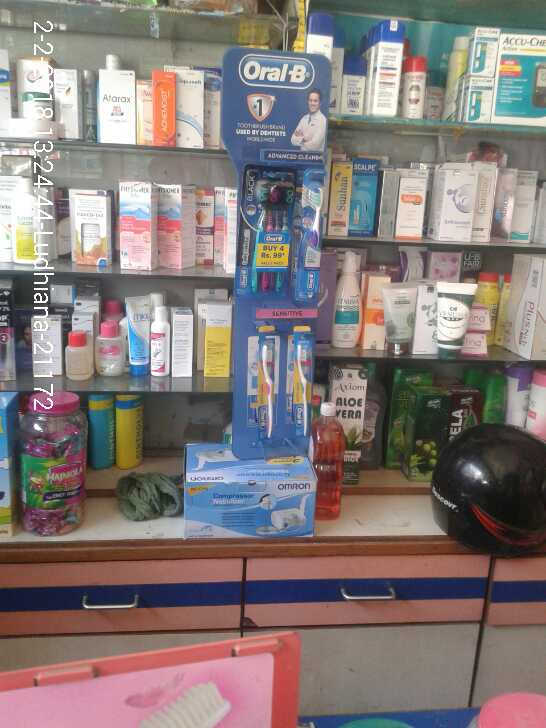oralb: (246, 175, 289, 301), (300, 177, 329, 296), (289, 332, 317, 445), (251, 326, 275, 444)
